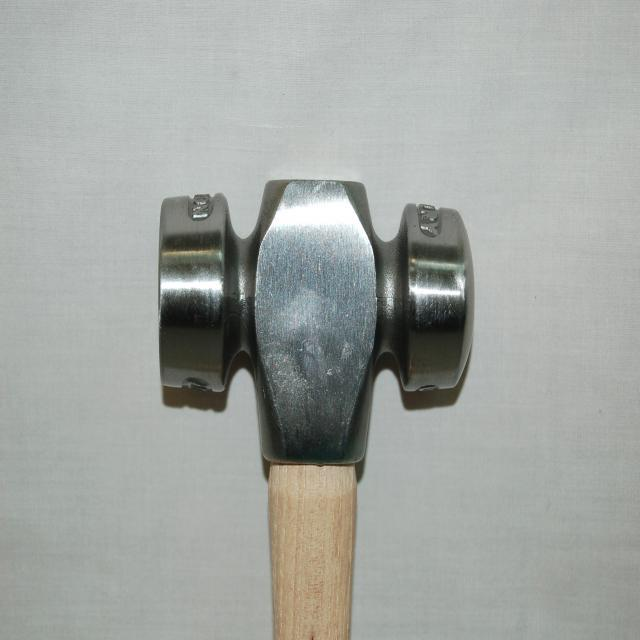hammer: (141, 149, 489, 640)
